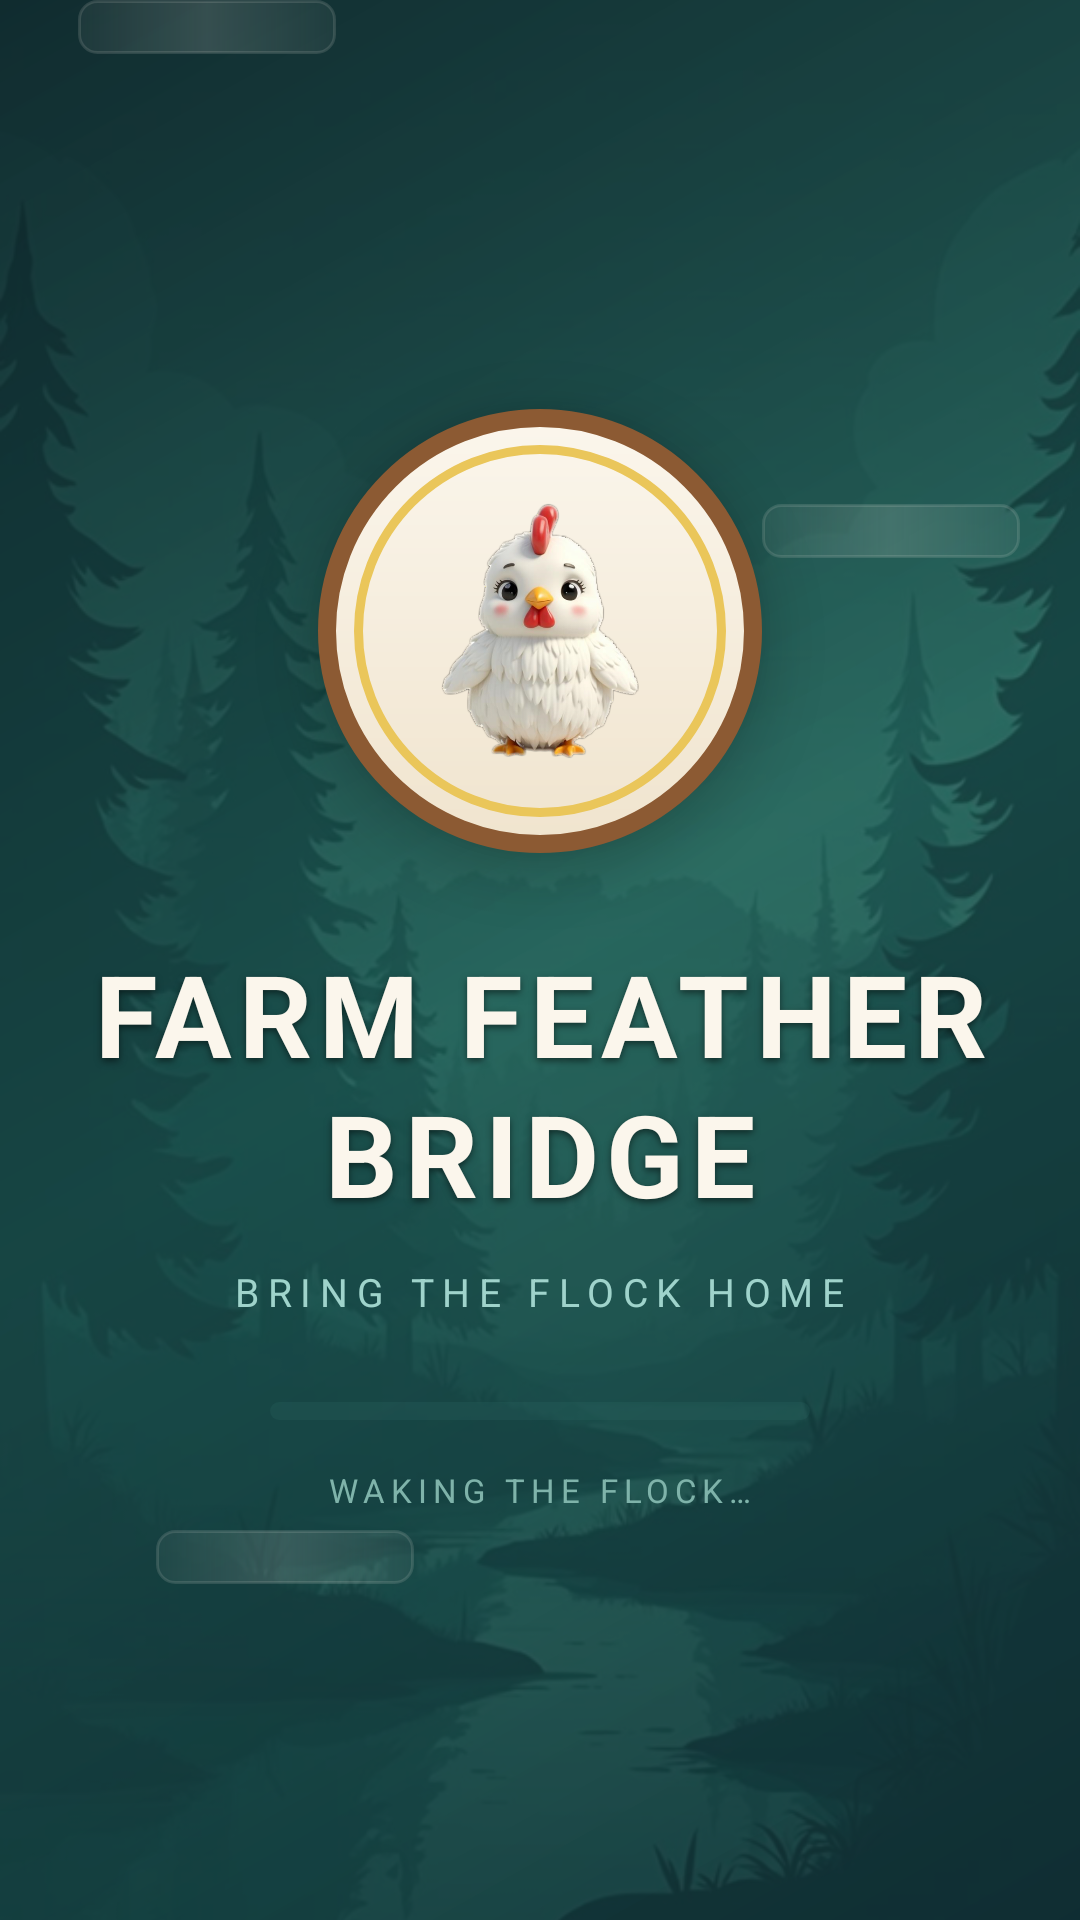

Where to tap for icons on this 1080×1920 app screen, as (x=x, y=y):
Farm chicken mascot: (x=540, y=631)
